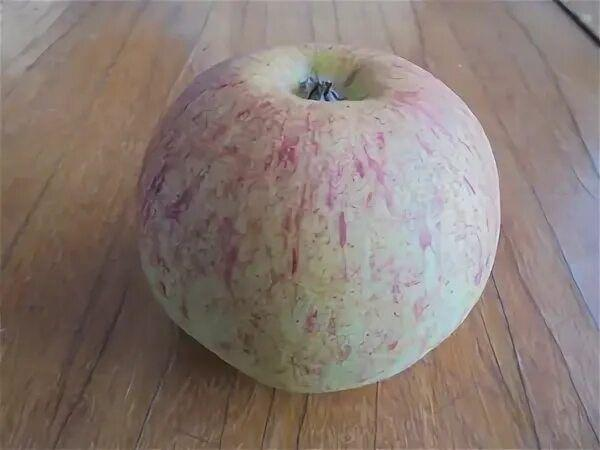Apple: (141, 41, 498, 392)
